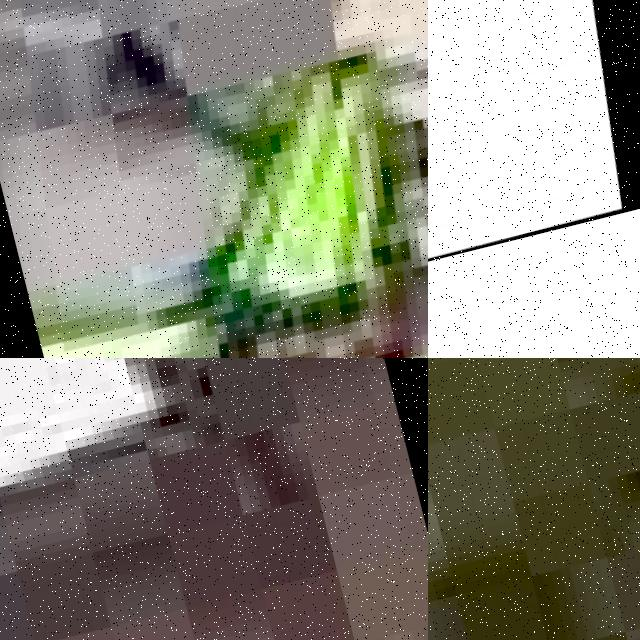0: (0, 0, 428, 358)
drone: (428, 0, 640, 358)
